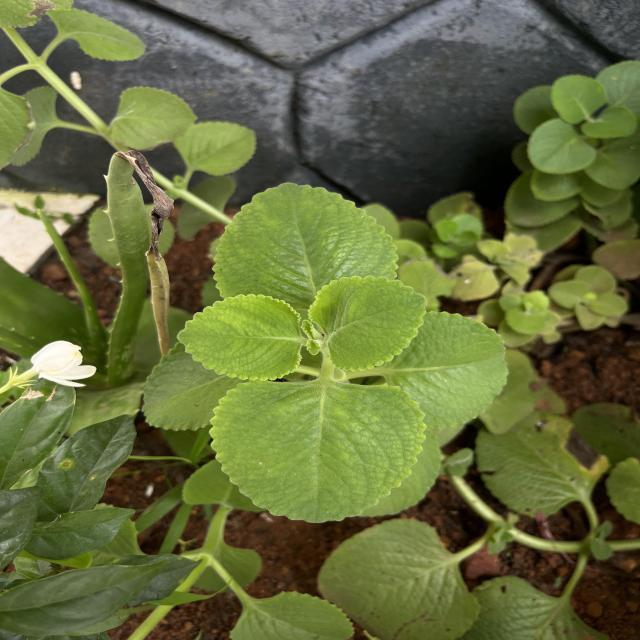Plectranthus barbatus: (208, 378, 428, 524), (212, 180, 400, 296), (316, 516, 482, 640), (386, 309, 508, 429), (306, 274, 428, 372), (177, 292, 306, 382), (138, 340, 240, 432), (229, 589, 359, 640), (110, 86, 198, 152), (174, 120, 258, 176), (524, 117, 596, 175), (550, 74, 606, 124), (580, 104, 637, 140)
